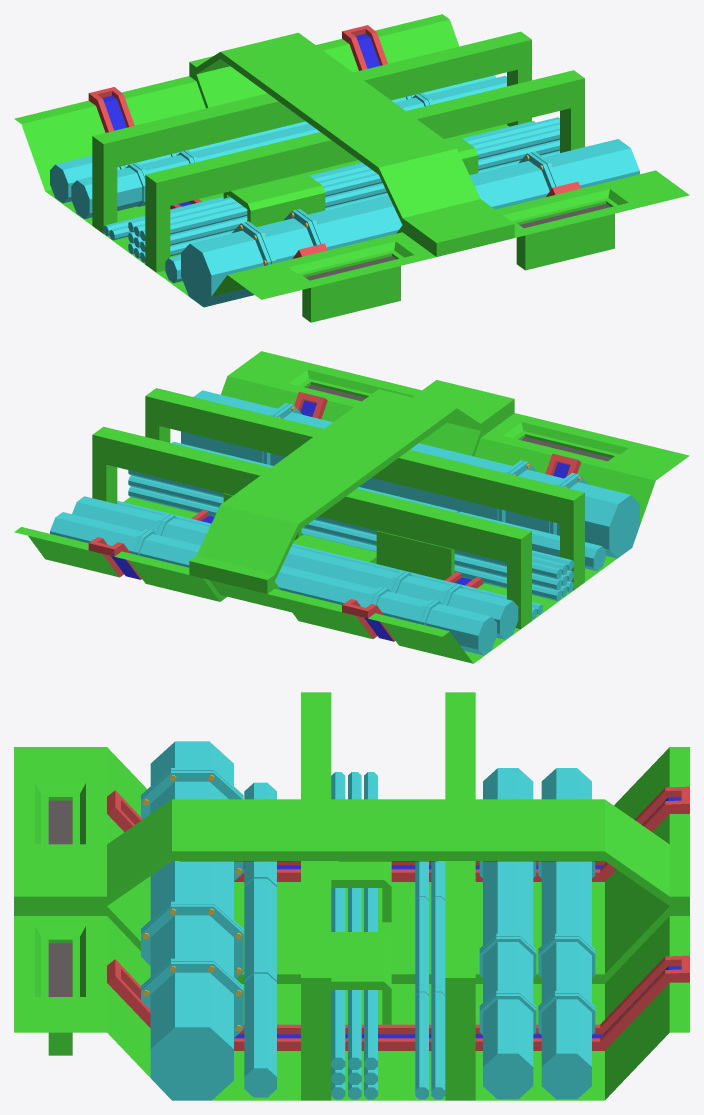
File: Interior_Deco_03_A.fbx
3 renders of one model, top to bottom at view 1: azimuth 30°, elevation 25°; view 2: azimuth 150°, elevation 25°; view 3: azimuth 270°, elevation 25°, orthographic. The views are drawn at different scales.
Parts seen in each view (by area): view 1: Interior_Deco_03_A; view 2: Interior_Deco_03_A; view 3: Interior_Deco_03_A.
Boxes of the visible parts, x1,y1,x2,y2 form: Interior_Deco_03_A: (14, 14, 689, 322); Interior_Deco_03_A: (14, 351, 689, 663); Interior_Deco_03_A: (14, 692, 689, 1100).
Bounding box in the file's own units: 457 × 98.92 × 457.
